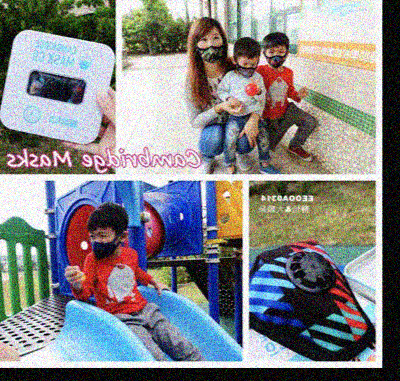with_mask: (87, 228, 117, 262), (196, 30, 225, 64), (264, 46, 288, 69), (235, 58, 258, 79)
